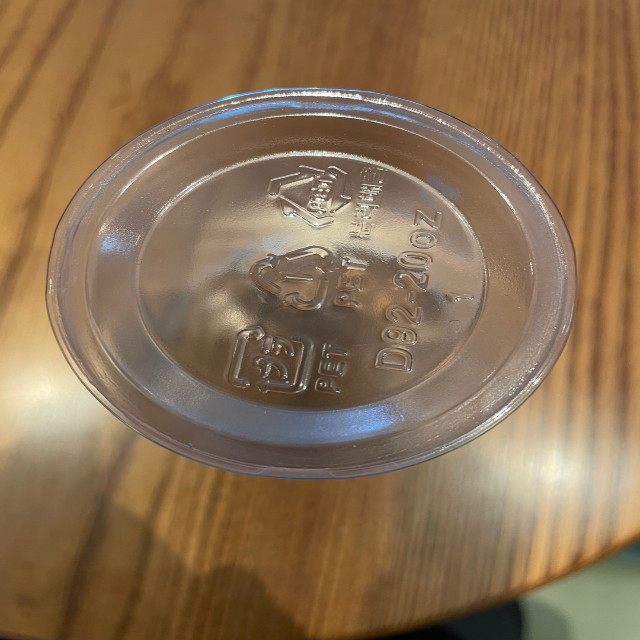pet: (262, 157, 387, 241), (224, 318, 353, 397), (243, 242, 369, 314)
